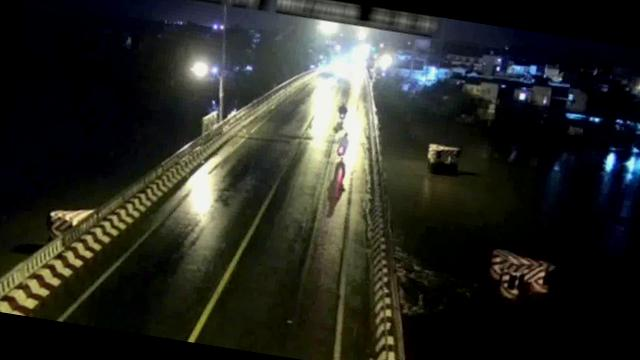Bike: (336, 128, 354, 159), (336, 100, 349, 124)
